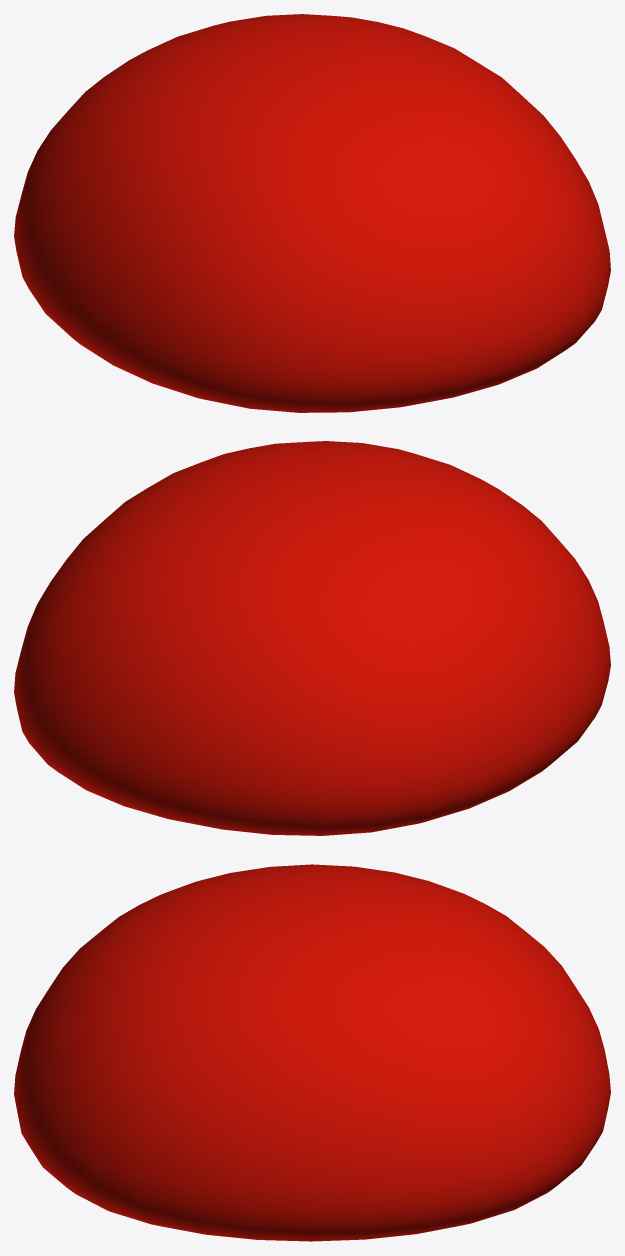
File: Slime.fbx
3 renders of one model, top to bottom at view 1: azimuth 30°, elevation 25°; view 2: azimuth 150°, elevation 25°; view 3: azimuth 270°, elevation 25°, orthographic. The views are drawn at different scales.
Parts seen in each view (by area): view 1: SLIME1; view 2: SLIME1; view 3: SLIME1.
Part boxes in pixels (left/top/right/bottom): SLIME1: left=14, top=14, right=610, bottom=412; SLIME1: left=14, top=441, right=610, bottom=835; SLIME1: left=14, top=864, right=610, bottom=1241.
Size of the model in its own units: 240 by 119 by 258.
